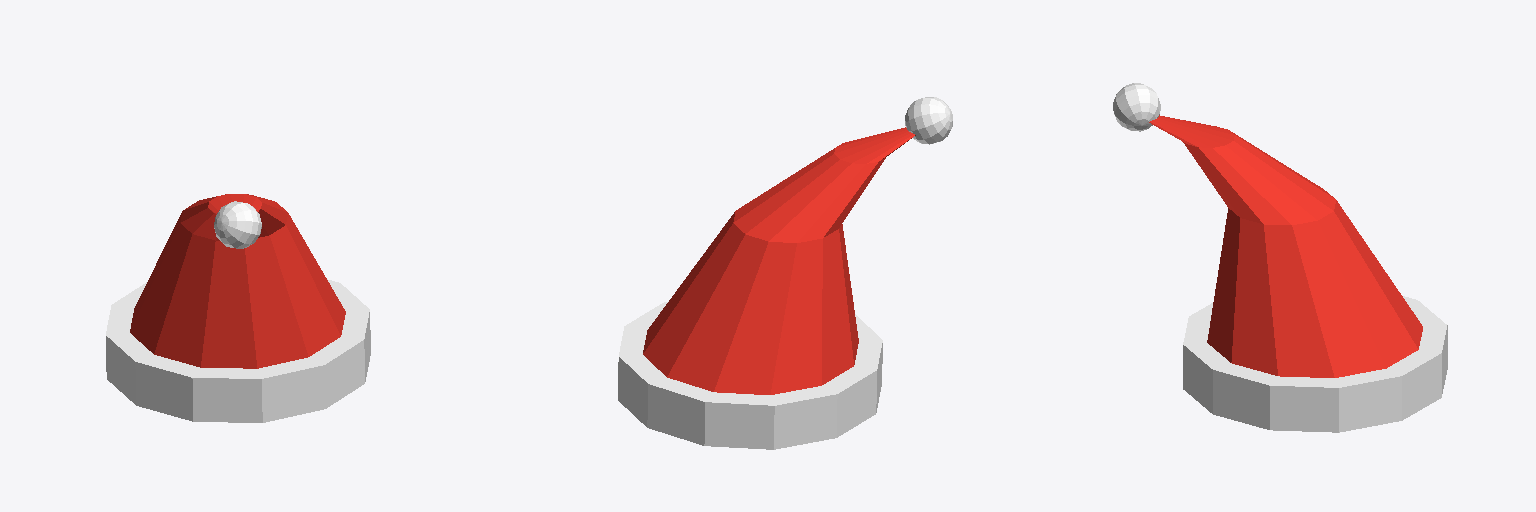
Rendered from santa.obj.
3 views of the same model, side by side, from view 1: azimuth 30°, elevation 25°; view 2: azimuth 150°, elevation 25°; view 3: azimuth 270°, elevation 25° (orthographic).
Visible parts, largest first — view 1: group[number redacted], group[number redacted], group[number redacted]; view 2: group[number redacted], group[number redacted], group[number redacted]; view 3: group[number redacted], group[number redacted], group[number redacted].
Part boxes in pixels (x1,y1,x2,y2): group[number redacted]: (130,194,345,368); group[number redacted]: (106,279,370,422); group[number redacted]: (214,201,261,248); group[number redacted]: (643,127,915,394); group[number redacted]: (618,301,882,449); group[number redacted]: (905,97,952,144); group[number redacted]: (1149,115,1422,377); group[number redacted]: (1183,296,1447,432); group[number redacted]: (1113,83,1160,131).
Size of the model in its own units: 0.1087 by 0.1147 by 0.1372.